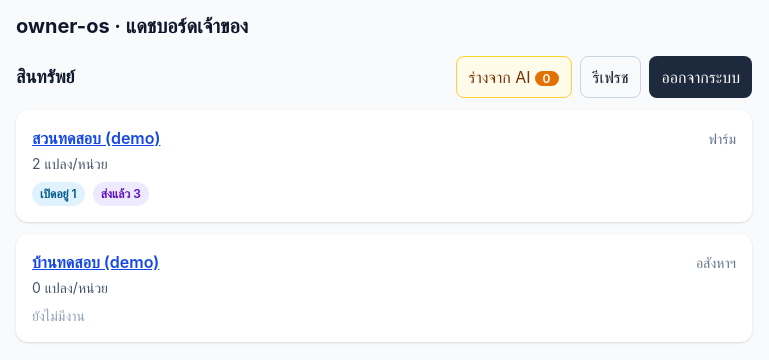
Test: App › logs out and clears the stored token
This screenshot has width=769, height=360.
Expected: the link "สวนทดสอบ (demo)" is shown, x1=32 y1=128 x2=160 y2=148
Click the button "ออกจากระบบ" at (701, 77), box x1=649 y1=56 x2=752 y2=98
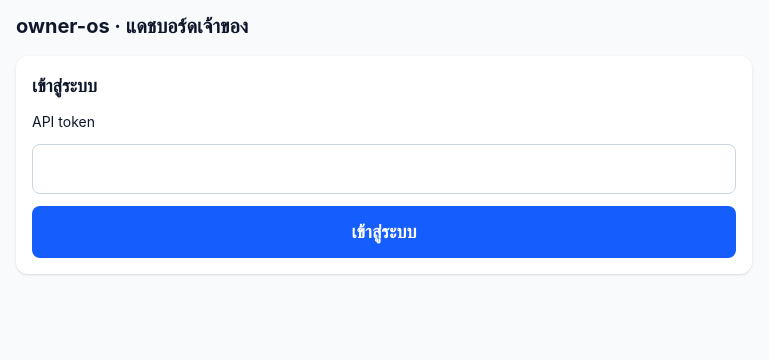
Expected: the password field labelled "API token" is shown, x1=32 y1=144 x2=736 y2=194
